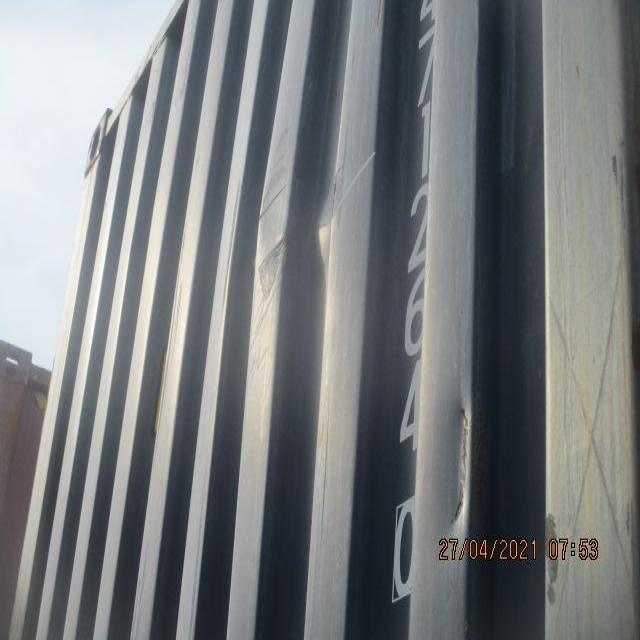dent: (226, 145, 378, 309)
